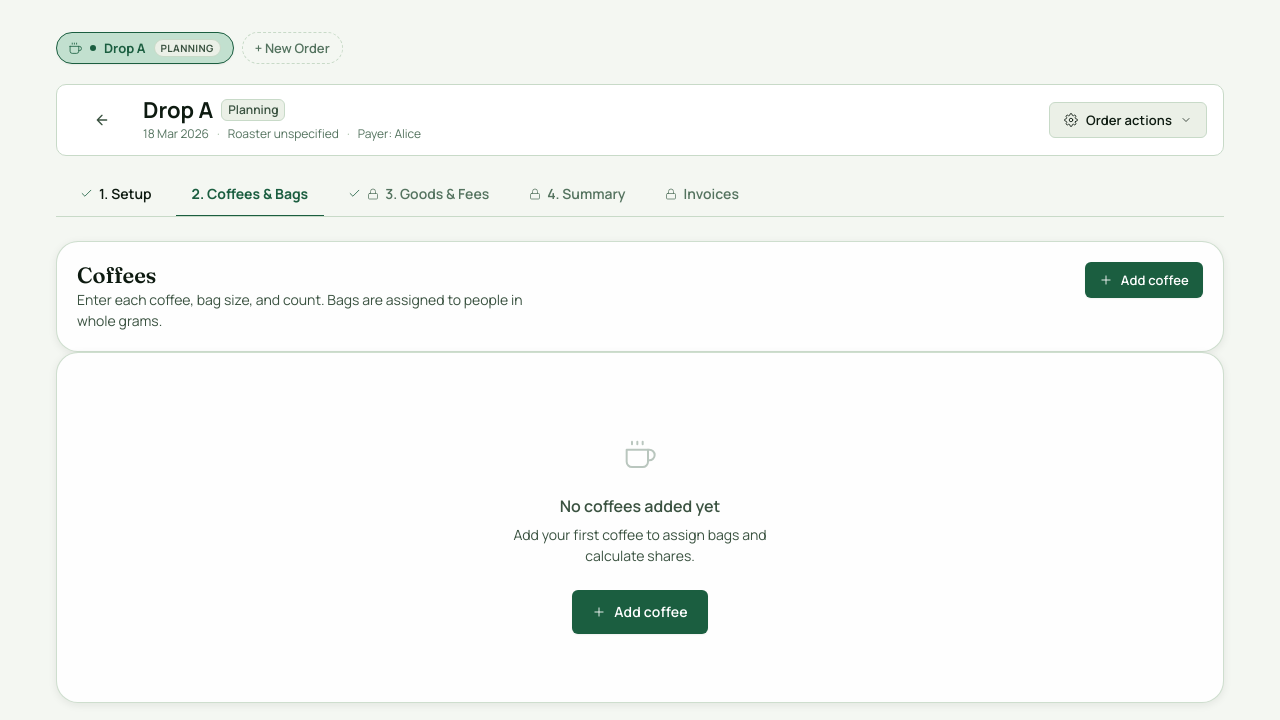
it: OrderPage component tests › BUG-AUTH-06 & 07: non-owner regular member cannot see status change or archive in actions dropdown
Click the button with class "order-actions-trigger" at {"x": 1128, "y": 120}, box [1049, 102, 1207, 138]
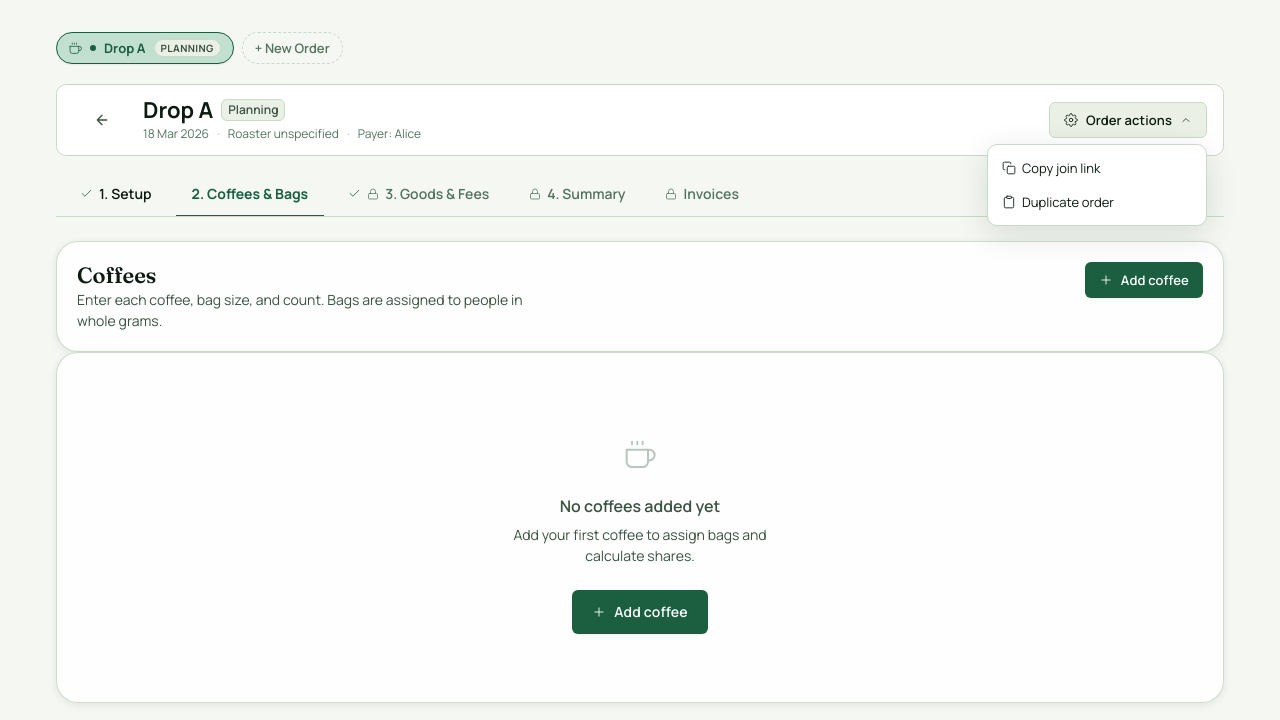
Expected: the text "Copy join link" is shown, [988, 151, 1206, 185]
Expected: the text "Duplicate order" is shown, [988, 185, 1206, 219]
